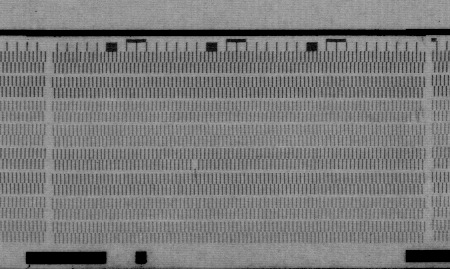Broken hole: (409, 111, 428, 124)
Oblique printing: (190, 158, 201, 176)
